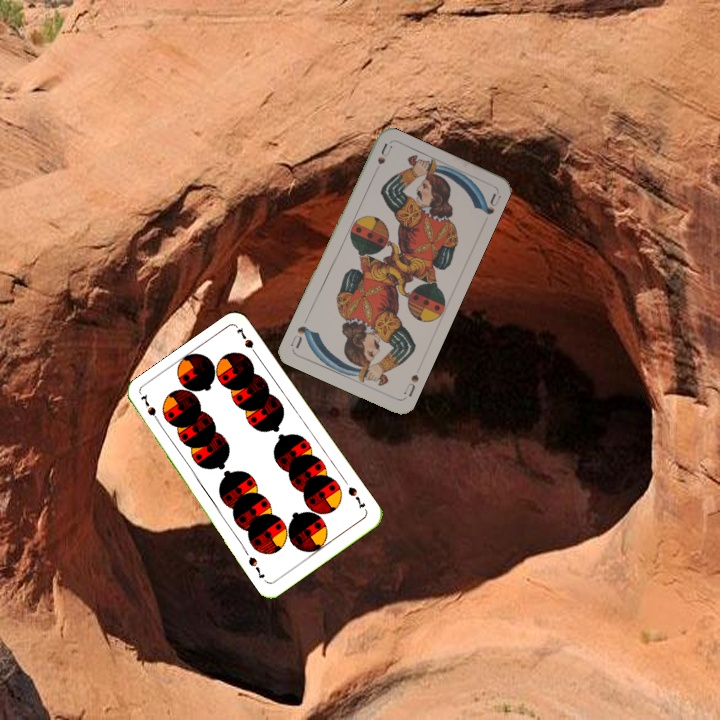S7: (136, 391, 164, 428), (344, 483, 369, 511)
SU: (369, 140, 394, 179), (400, 370, 421, 399)
